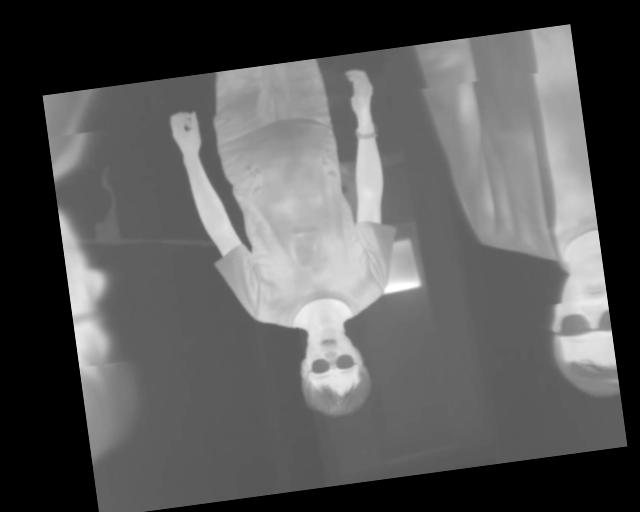face: (540, 257, 620, 406), (292, 320, 376, 422)
